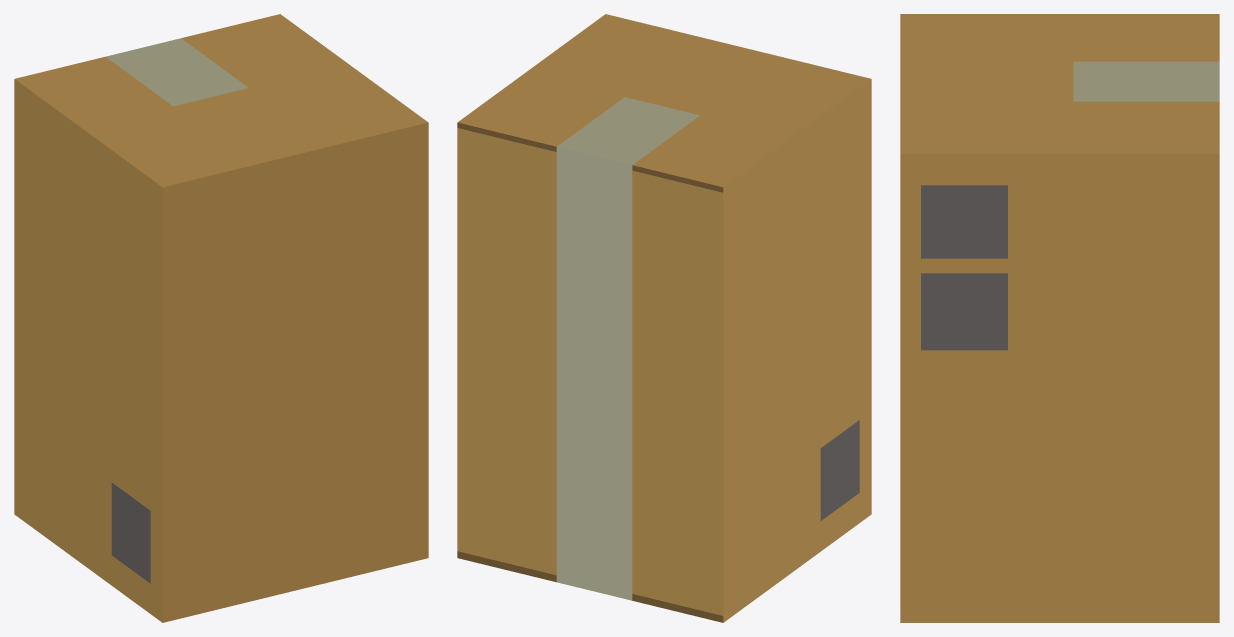
The model's file is CardboardBox.glb.
3 renders of one model, left to right at view 1: azimuth 30°, elevation 25°; view 2: azimuth 150°, elevation 25°; view 3: azimuth 270°, elevation 25°, orthographic. The views are drawn at different scales.
Parts seen in each view (by area): view 1: SO_CarboardBox_01; view 2: SO_CarboardBox_01; view 3: SO_CarboardBox_01.
Boxes of the visible parts, box(x1,y1,x2,y2) form: SO_CarboardBox_01: box(14, 14, 428, 622); SO_CarboardBox_01: box(457, 14, 871, 622); SO_CarboardBox_01: box(900, 14, 1219, 622).
Size of the model in its own units: 0.6621 by 1.04 by 0.6393.
1 material, 1 textured.
